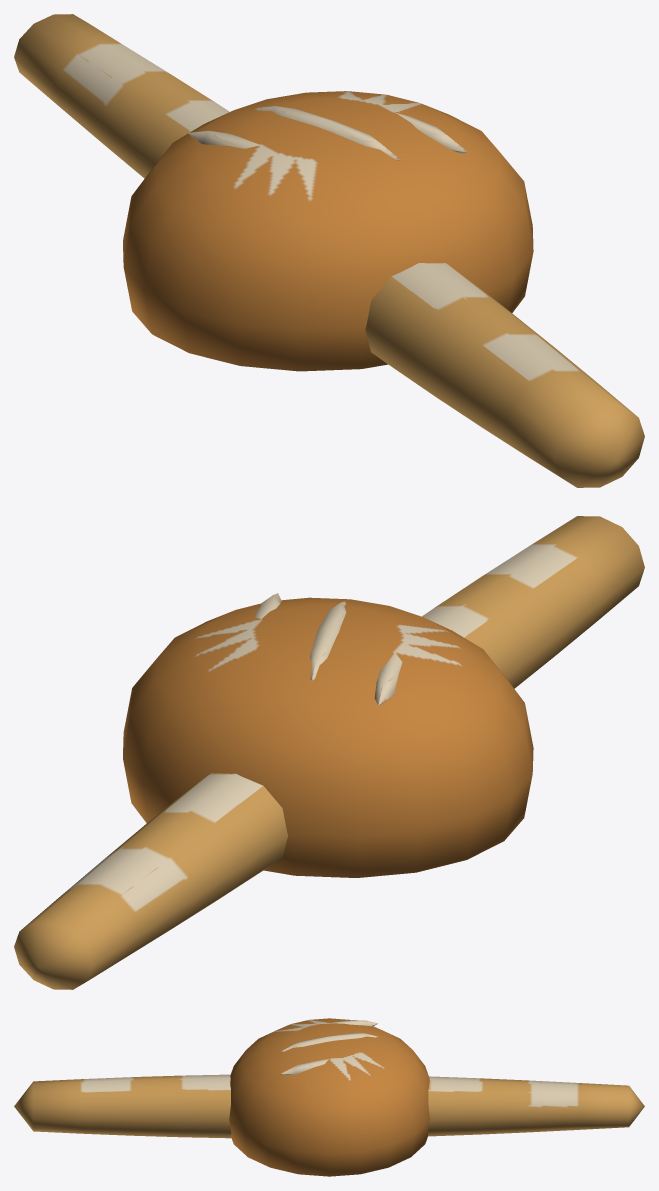
The model's file is pain.glb.
The picture shows the model from 3 angles, top to bottom: view 1: azimuth 30°, elevation 25°; view 2: azimuth 150°, elevation 25°; view 3: azimuth 270°, elevation 25°; orthographic projection. The views are drawn at different scales.
Parts seen in each view (by area): view 1: pain, baguette; view 2: pain, baguette; view 3: pain, baguette.
Part boxes in pixels (<box>): pain: <box>123,91,533,371</box>; baguette: <box>14,14,644,487</box>; pain: <box>123,593,533,877</box>; baguette: <box>14,516,644,989</box>; pain: <box>229,1018,429,1176</box>; baguette: <box>14,1074,644,1138</box>.
Size of the model in its own units: 0.22 by 0.1035 by 0.6.
Materials: 1 (1 with a texture image).
